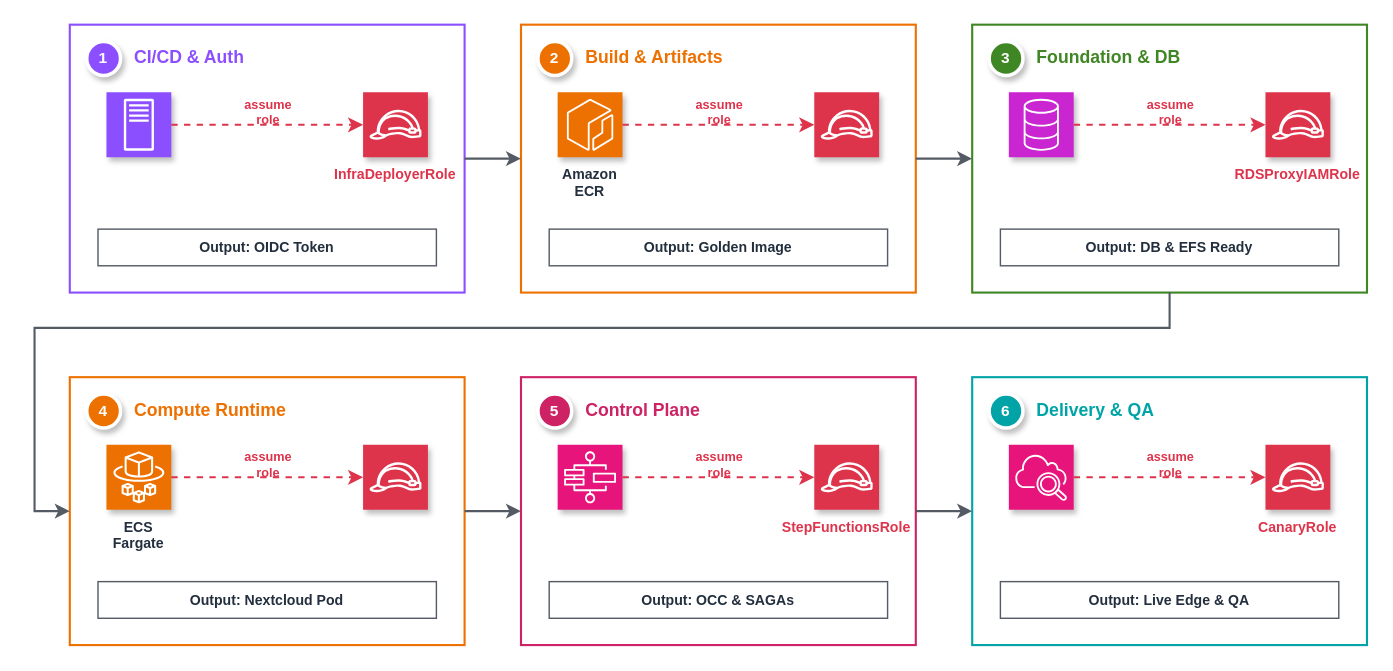
The diagram is 1393 pixels wide and 671 high, and some of its shapes have lost their labels. Each missing label, with the centre of its shape:
"ECSTaskRole" goes at pixel 396 479.
"GitHub Actions" goes at pixel 139 126.
"RDS Proxy" goes at pixel 1042 126.
"RuntimeDeployerRole" goes at pixel 847 126.
"Step Functions" goes at pixel 591 479.
"Synthetics Canary" goes at pixel 1042 479.
